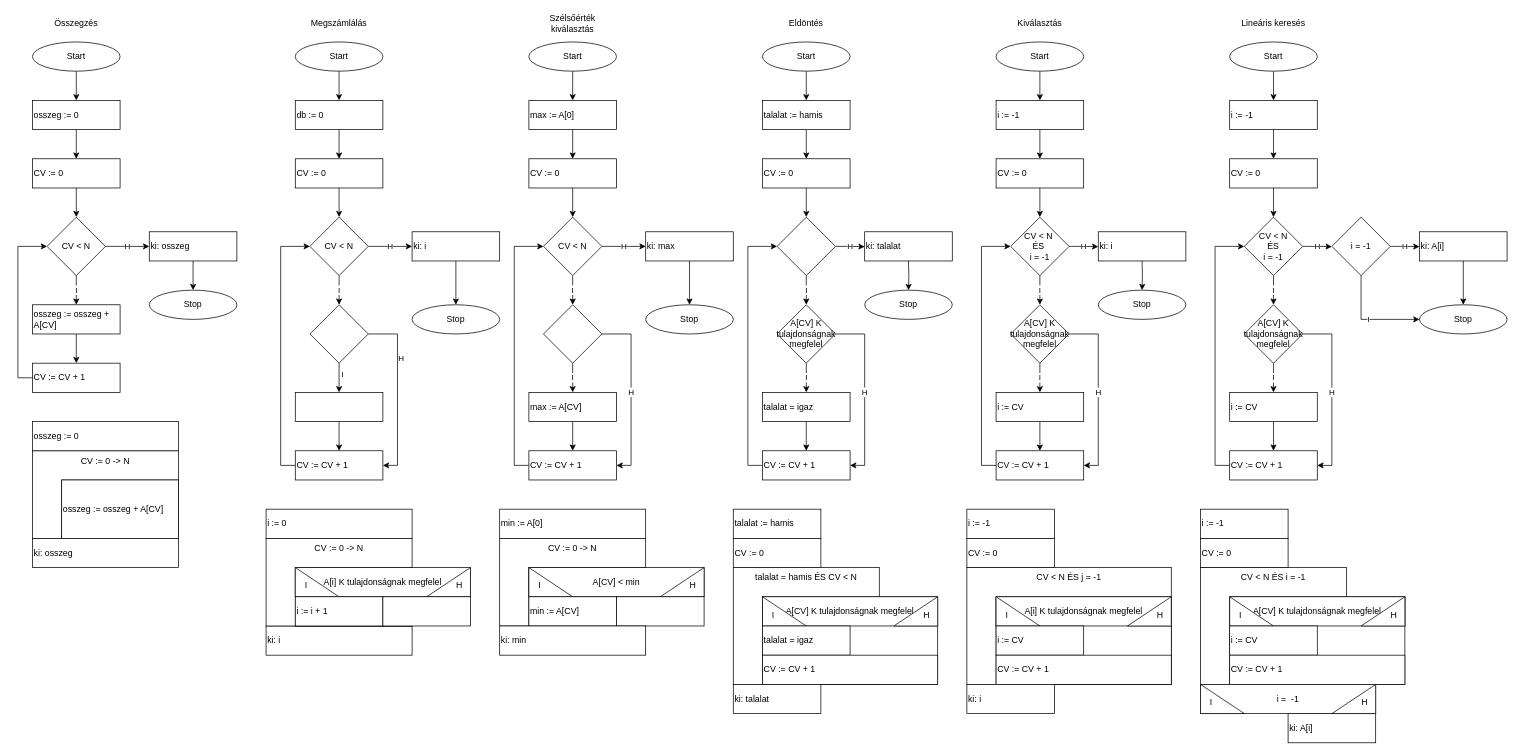
Some shapes in this 1520 by 756 pixel diagram are drawn without their labels. Here are the shapes that lost their labels. From the top down, the centre of each, then its label:
At [805,246]: "CV < N ÉS nem találat".
At [338,333]: "A[CV] megfelel K tulajdonságnak".
At [572,333]: "A[CV] > max".
At [339,407]: "db := db + 1".
